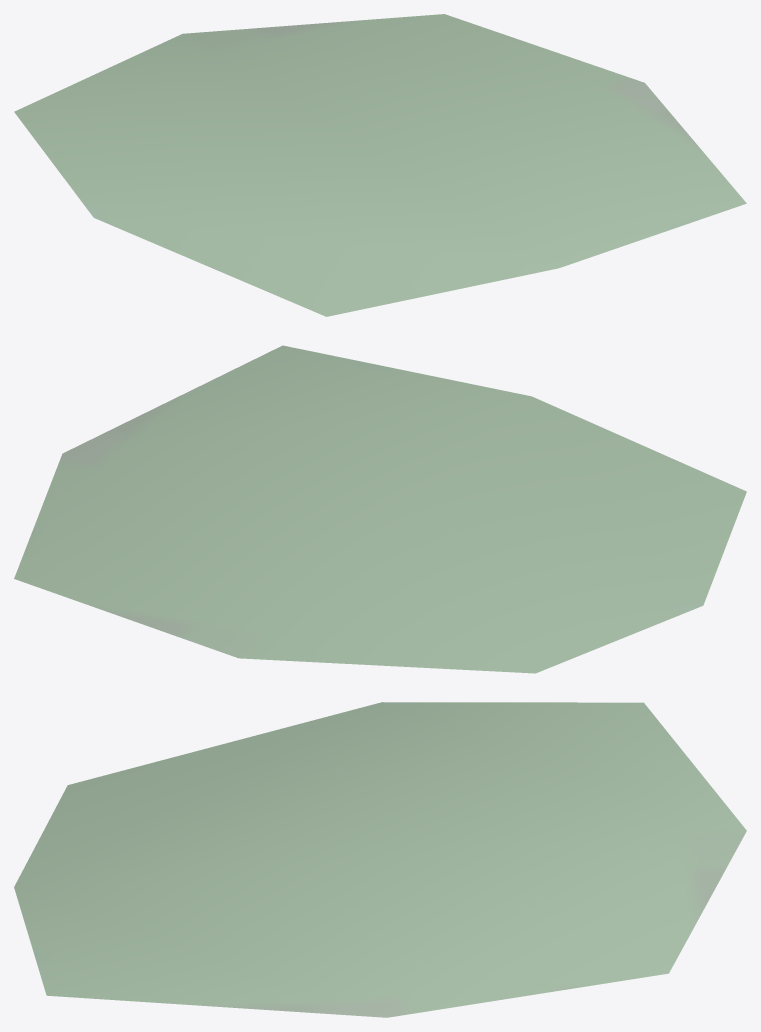
The model's file is TROLLHOLE02_HOLECAP05.fbx.
3 views of the same model, one above another, from view 1: azimuth 30°, elevation 25°; view 2: azimuth 150°, elevation 25°; view 3: azimuth 270°, elevation 25° (orthographic). The views are drawn at different scales.
Visible parts, largest first — view 1: TROLLHOLE02_HOLECAP05; view 2: TROLLHOLE02_HOLECAP05; view 3: TROLLHOLE02_HOLECAP05.
Part boxes in pixels (x1=…): TROLLHOLE02_HOLECAP05: x1=14, y1=14, x2=746, y2=316; TROLLHOLE02_HOLECAP05: x1=14, y1=345, x2=746, y2=673; TROLLHOLE02_HOLECAP05: x1=14, y1=702, x2=746, y2=1017.
Bounding box in the file's own units: 26305 × 1794 × 25963.
Materials: 1 (1 with a texture image).
